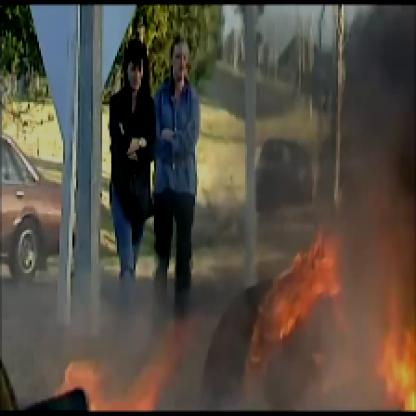Fire: (58, 225, 414, 414)
